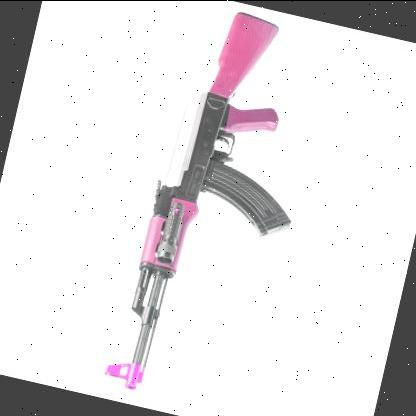rifle: (91, 0, 327, 412)
